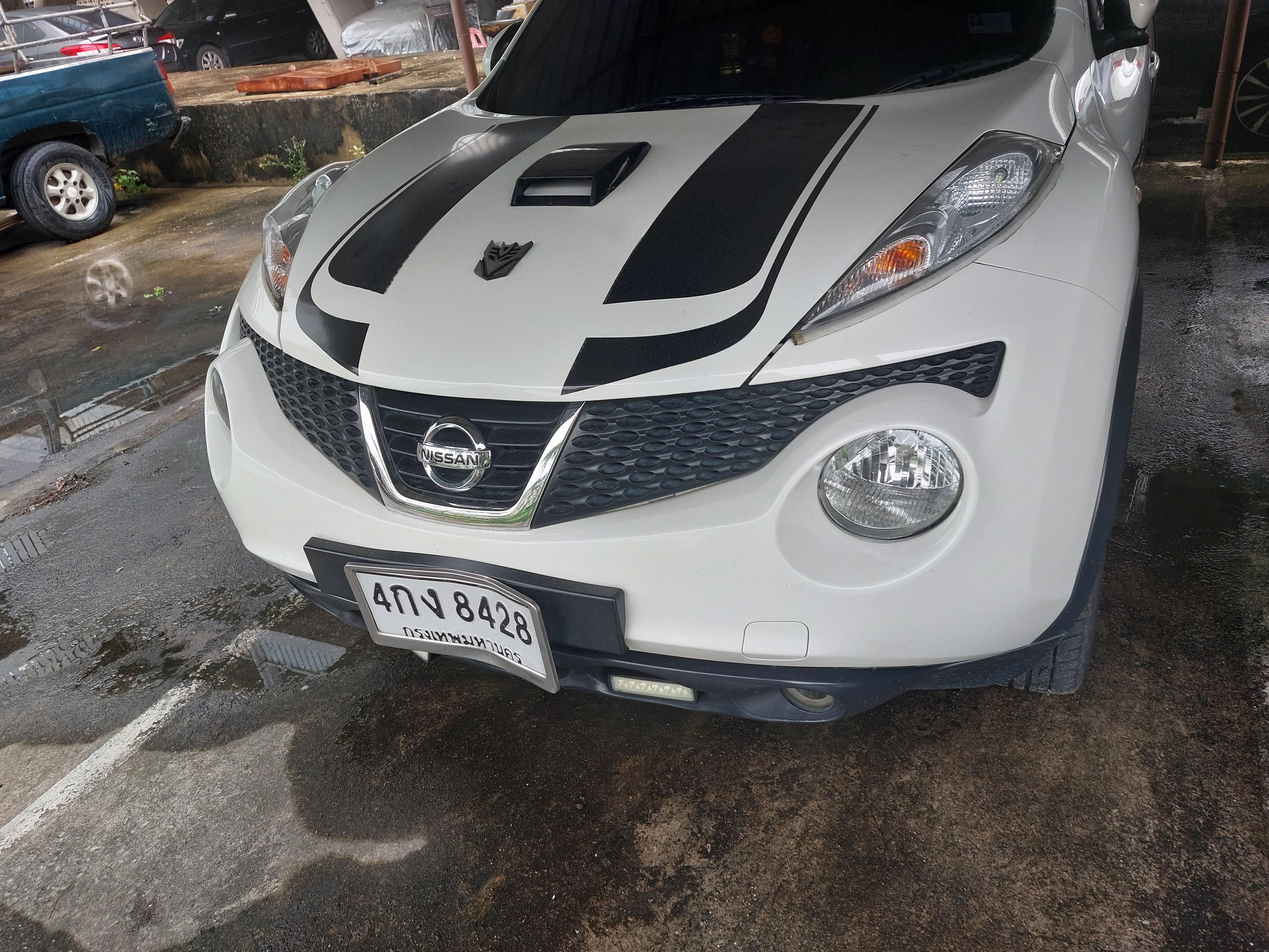license-plate: (341, 548, 573, 704)
